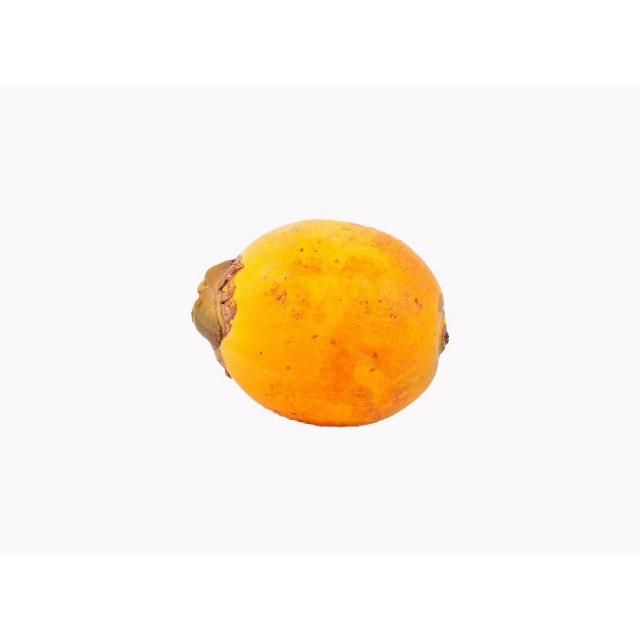good: (192, 220, 448, 427)
